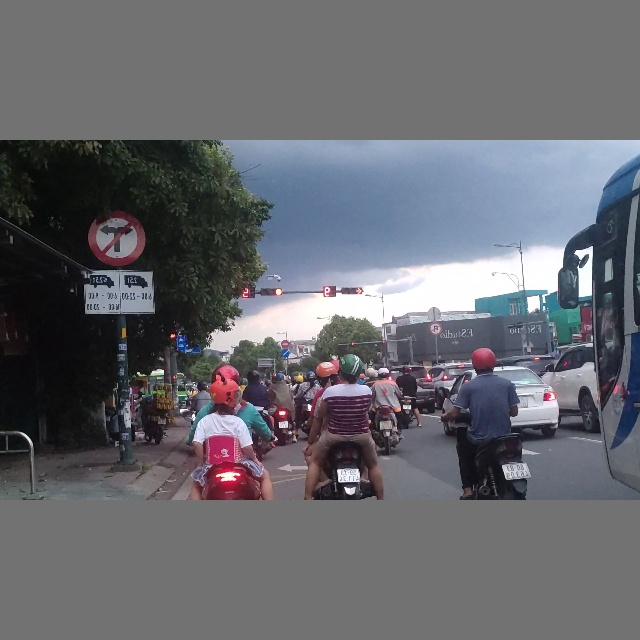P.102: (281, 339, 290, 348)
P.124a*: (429, 322, 442, 335)
P.137: (87, 209, 146, 268)
R.302a: (281, 348, 290, 358)
S.505a*Xe tai: (84, 268, 155, 316)
